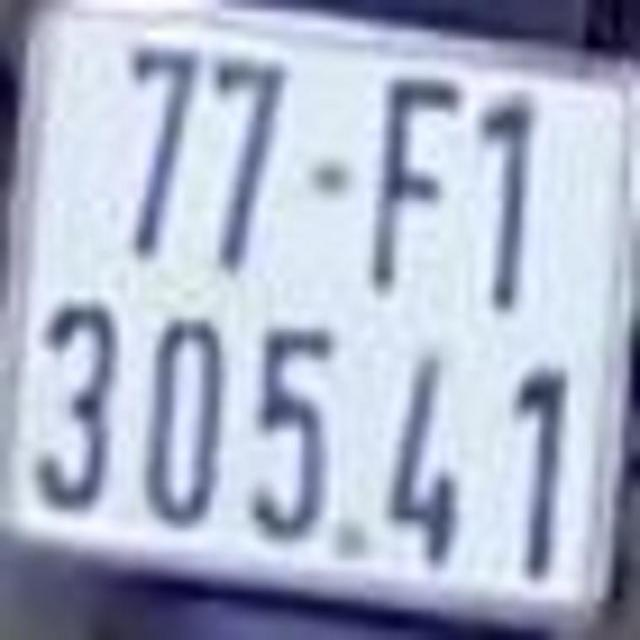0: (143, 299, 228, 528)
1: (504, 340, 582, 583), (473, 84, 555, 314)
3: (36, 296, 119, 513)
4: (378, 341, 473, 574)
5: (248, 310, 332, 540)
7: (210, 42, 289, 268), (122, 34, 201, 255)
F: (366, 68, 464, 295)
